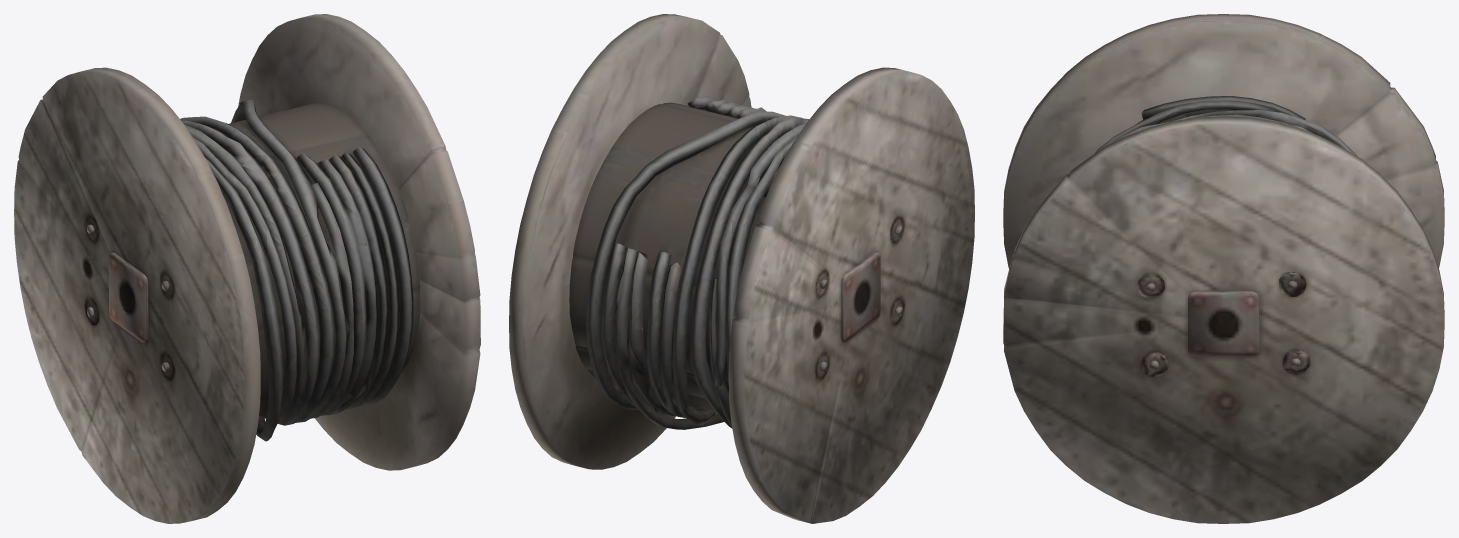
Rendered from prop-cable-drum.glb.
3 views of the same model, side by side, from view 1: azimuth 30°, elevation 25°; view 2: azimuth 150°, elevation 25°; view 3: azimuth 270°, elevation 25° (orthographic). The views are drawn at different scales.
Visible parts, largest first — view 1: Cable drum; view 2: Cable drum; view 3: Cable drum.
Boxes of the visible parts, bbox=[...] form: Cable drum: bbox=[14, 14, 480, 523]; Cable drum: bbox=[509, 14, 974, 523]; Cable drum: bbox=[1003, 14, 1444, 523].
Size of the model in its own units: 0.6035 by 0.998 by 0.998.
1 material, 1 textured.
